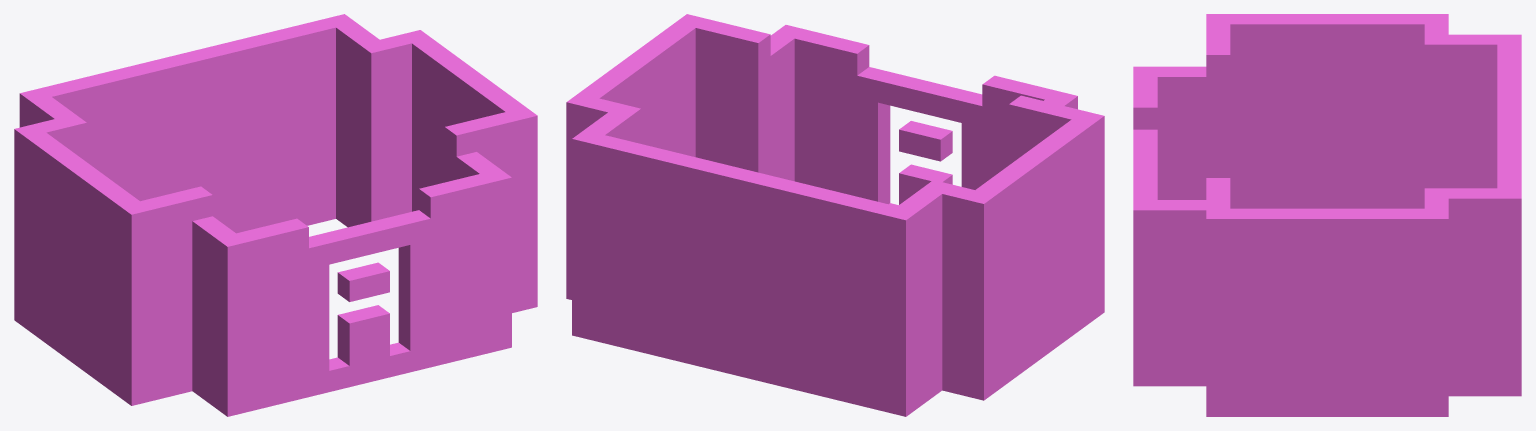
The picture shows the model from 3 angles, left to right: view 1: azimuth 30°, elevation 25°; view 2: azimuth 150°, elevation 25°; view 3: azimuth 270°, elevation 25°; orthographic projection. The views are drawn at different scales.
Parts seen in each view (by area): view 1: 56; view 2: 56; view 3: 56.
Boxes of the visible parts, bbox=[...] form: 56: bbox=[14, 14, 537, 416]; 56: bbox=[566, 14, 1104, 416]; 56: bbox=[1133, 14, 1521, 416].
Bounding box in the file's own units: 200 × 90 × 160.
1 material, 1 textured.
